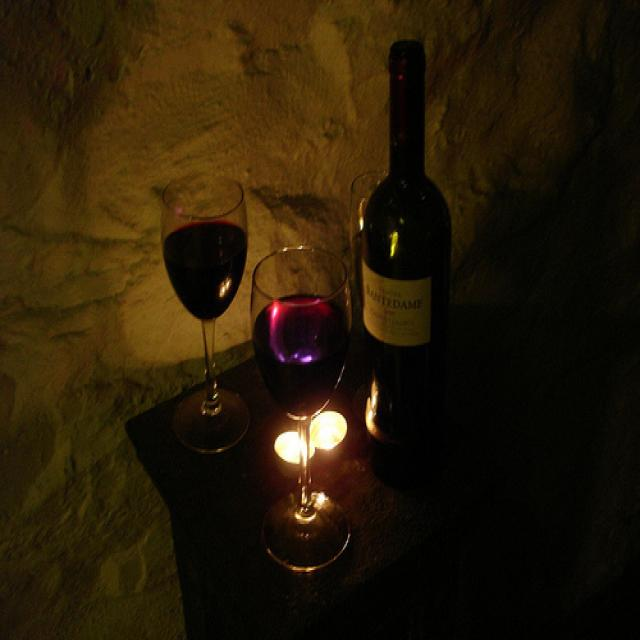Bottle: (354, 46, 480, 440)
Cup: (150, 149, 253, 456), (264, 247, 358, 571)
